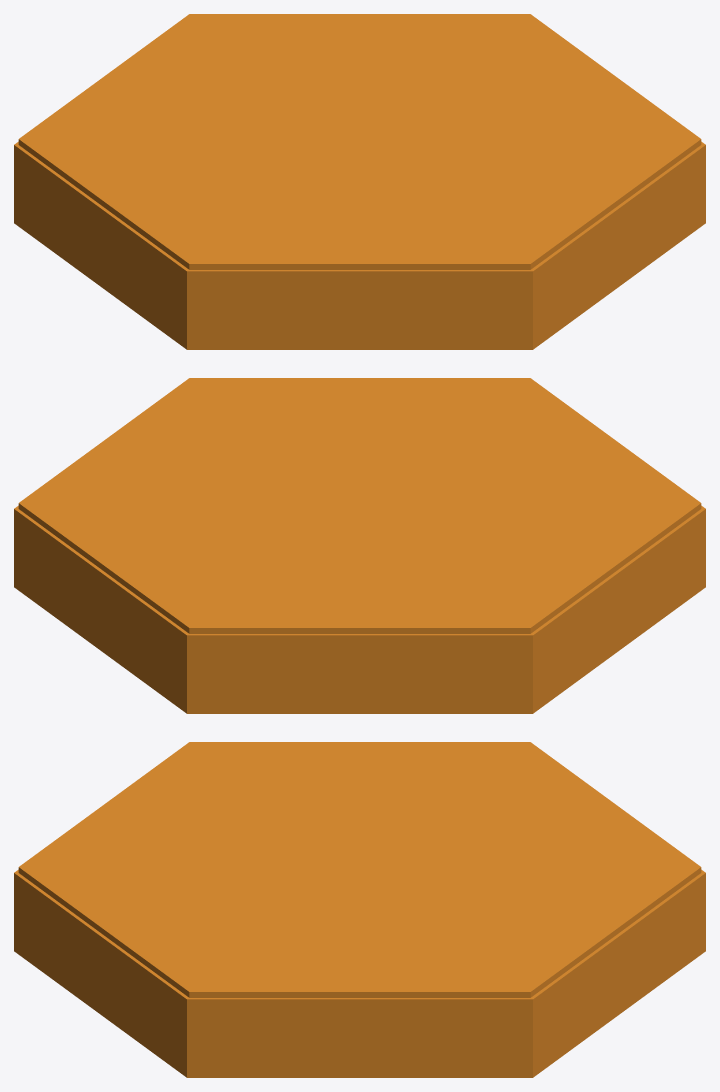
File: toiletTile_gray.fbx
3 renders of one model, top to bottom at view 1: azimuth 30°, elevation 25°; view 2: azimuth 150°, elevation 25°; view 3: azimuth 270°, elevation 25°, orthographic.
Parts seen in each view (by area): view 1: toilet_tile_gray; view 2: toilet_tile_gray; view 3: toilet_tile_gray.
Boxes of the visible parts, x1=… form: toilet_tile_gray: x1=14, y1=14, x2=705, y2=349; toilet_tile_gray: x1=14, y1=378, x2=705, y2=713; toilet_tile_gray: x1=14, y1=742, x2=705, y2=1077.
Size of the model in its own units: 200 by 31 by 231.
